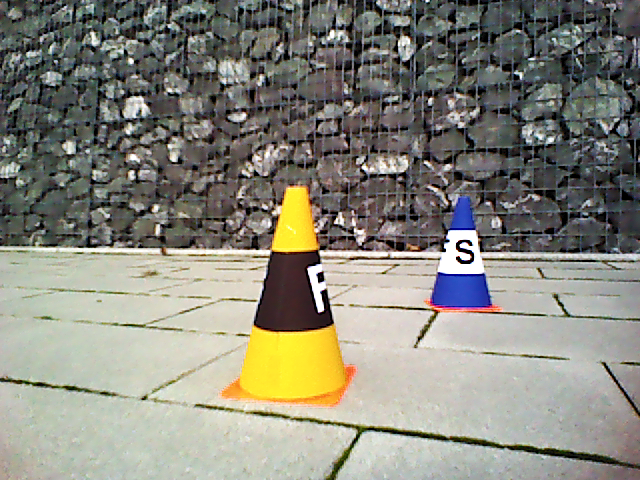bluecone: (430, 196, 491, 309)
yellowcone: (240, 185, 347, 400)
